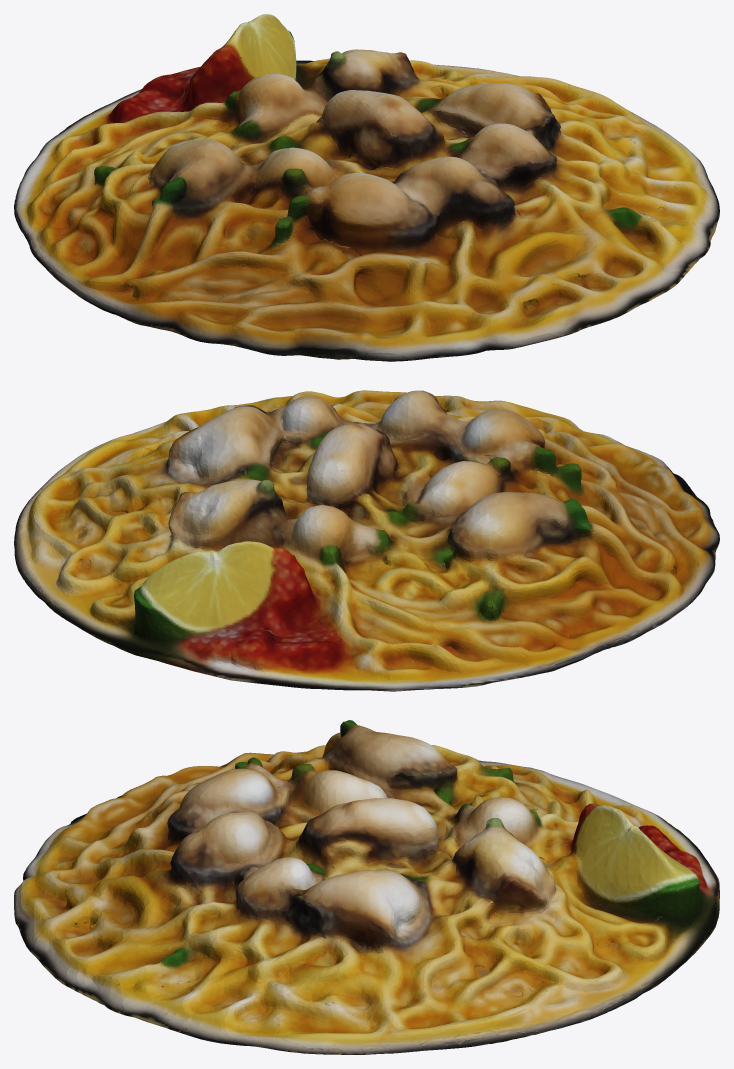
The model's file is oysternoodle.fbx.
3 views of the same model, one above another, from view 1: azimuth 30°, elevation 25°; view 2: azimuth 150°, elevation 25°; view 3: azimuth 270°, elevation 25° (orthographic).
Parts seen in each view (by area): view 1: world; view 2: world; view 3: world.
Boxes of the visible parts, <box> form: world: <box>14,14,719,361</box>; world: <box>14,390,719,691</box>; world: <box>14,720,719,1054</box>.
Bounding box in the file's own units: 100 × 17.91 × 100.
